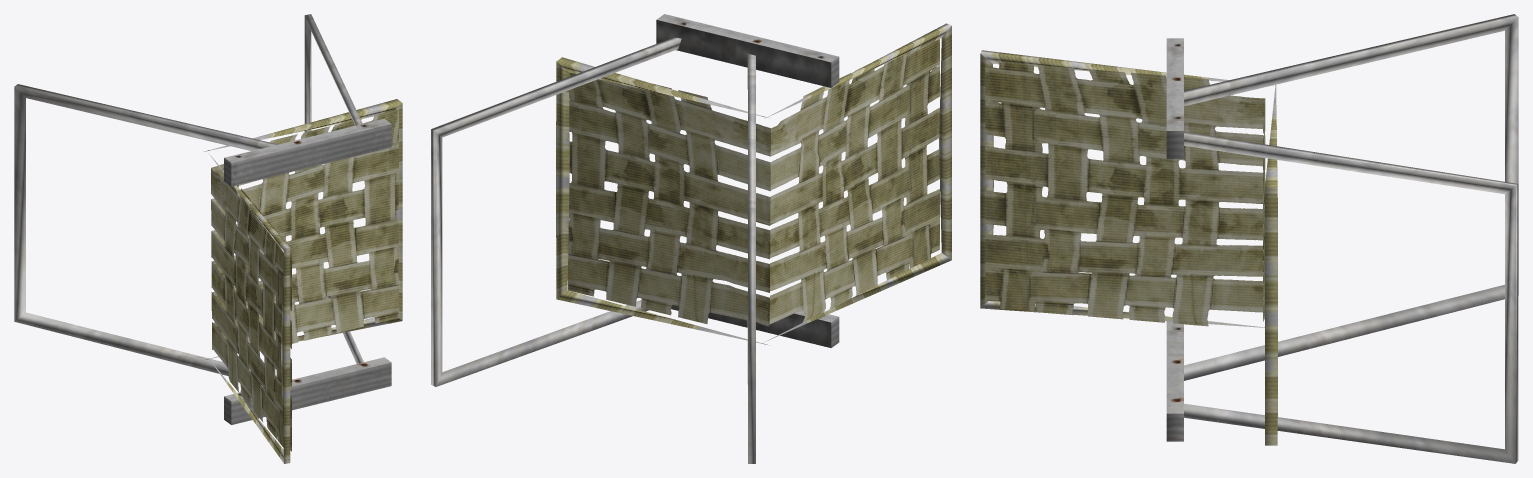
Rendered from furniture_lawn_chair_1_LOD2.obj.
The picture shows the model from 3 angles, left to right: view 1: azimuth 30°, elevation 25°; view 2: azimuth 150°, elevation 25°; view 3: azimuth 270°, elevation 25°; orthographic projection. The views are drawn at different scales.
Parts seen in each view (by area): view 1: mtl_furniture_lawn_chair_1_cloth, mtl_furniture_lawn_chair_1_metal; view 2: mtl_furniture_lawn_chair_1_cloth, mtl_furniture_lawn_chair_1_metal; view 3: mtl_furniture_lawn_chair_1_cloth, mtl_furniture_lawn_chair_1_metal.
Boxes of the visible parts, x1,y1,x2,y2 form: mtl_furniture_lawn_chair_1_cloth: (211, 109, 398, 451); mtl_furniture_lawn_chair_1_metal: (14, 14, 402, 463); mtl_furniture_lawn_chair_1_cloth: (568, 39, 939, 326); mtl_furniture_lawn_chair_1_metal: (431, 14, 951, 463); mtl_furniture_lawn_chair_1_cloth: (985, 62, 1265, 326); mtl_furniture_lawn_chair_1_metal: (980, 14, 1518, 463).
Size of the model in its own units: 77.36 by 65.12 by 102.
